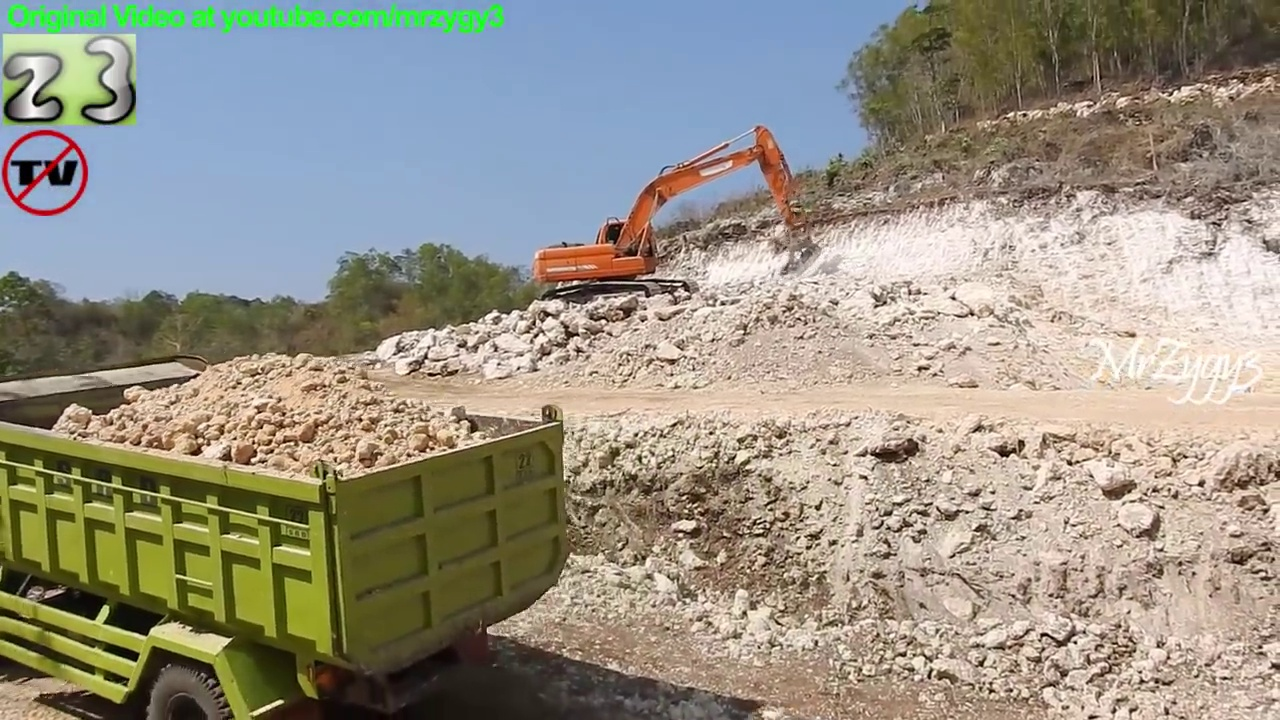excavator breaker: (531, 121, 823, 317)
truck: (2, 358, 574, 719)
